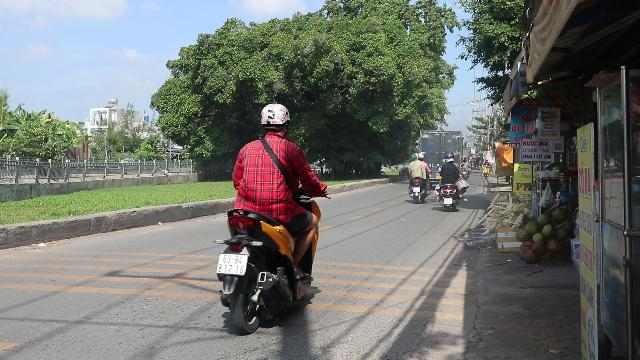helmet: (258, 102, 292, 136)
licenseplate: (216, 253, 248, 275)
motorcyclist: (212, 100, 326, 334)
